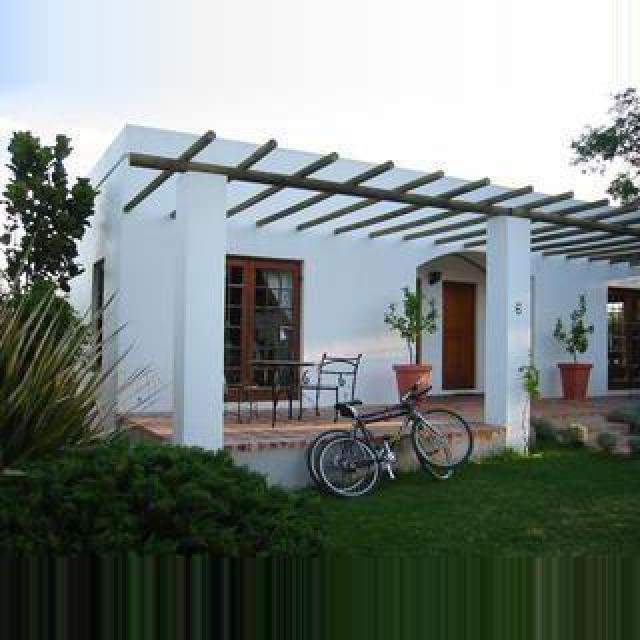Person: (308, 369, 474, 501)
